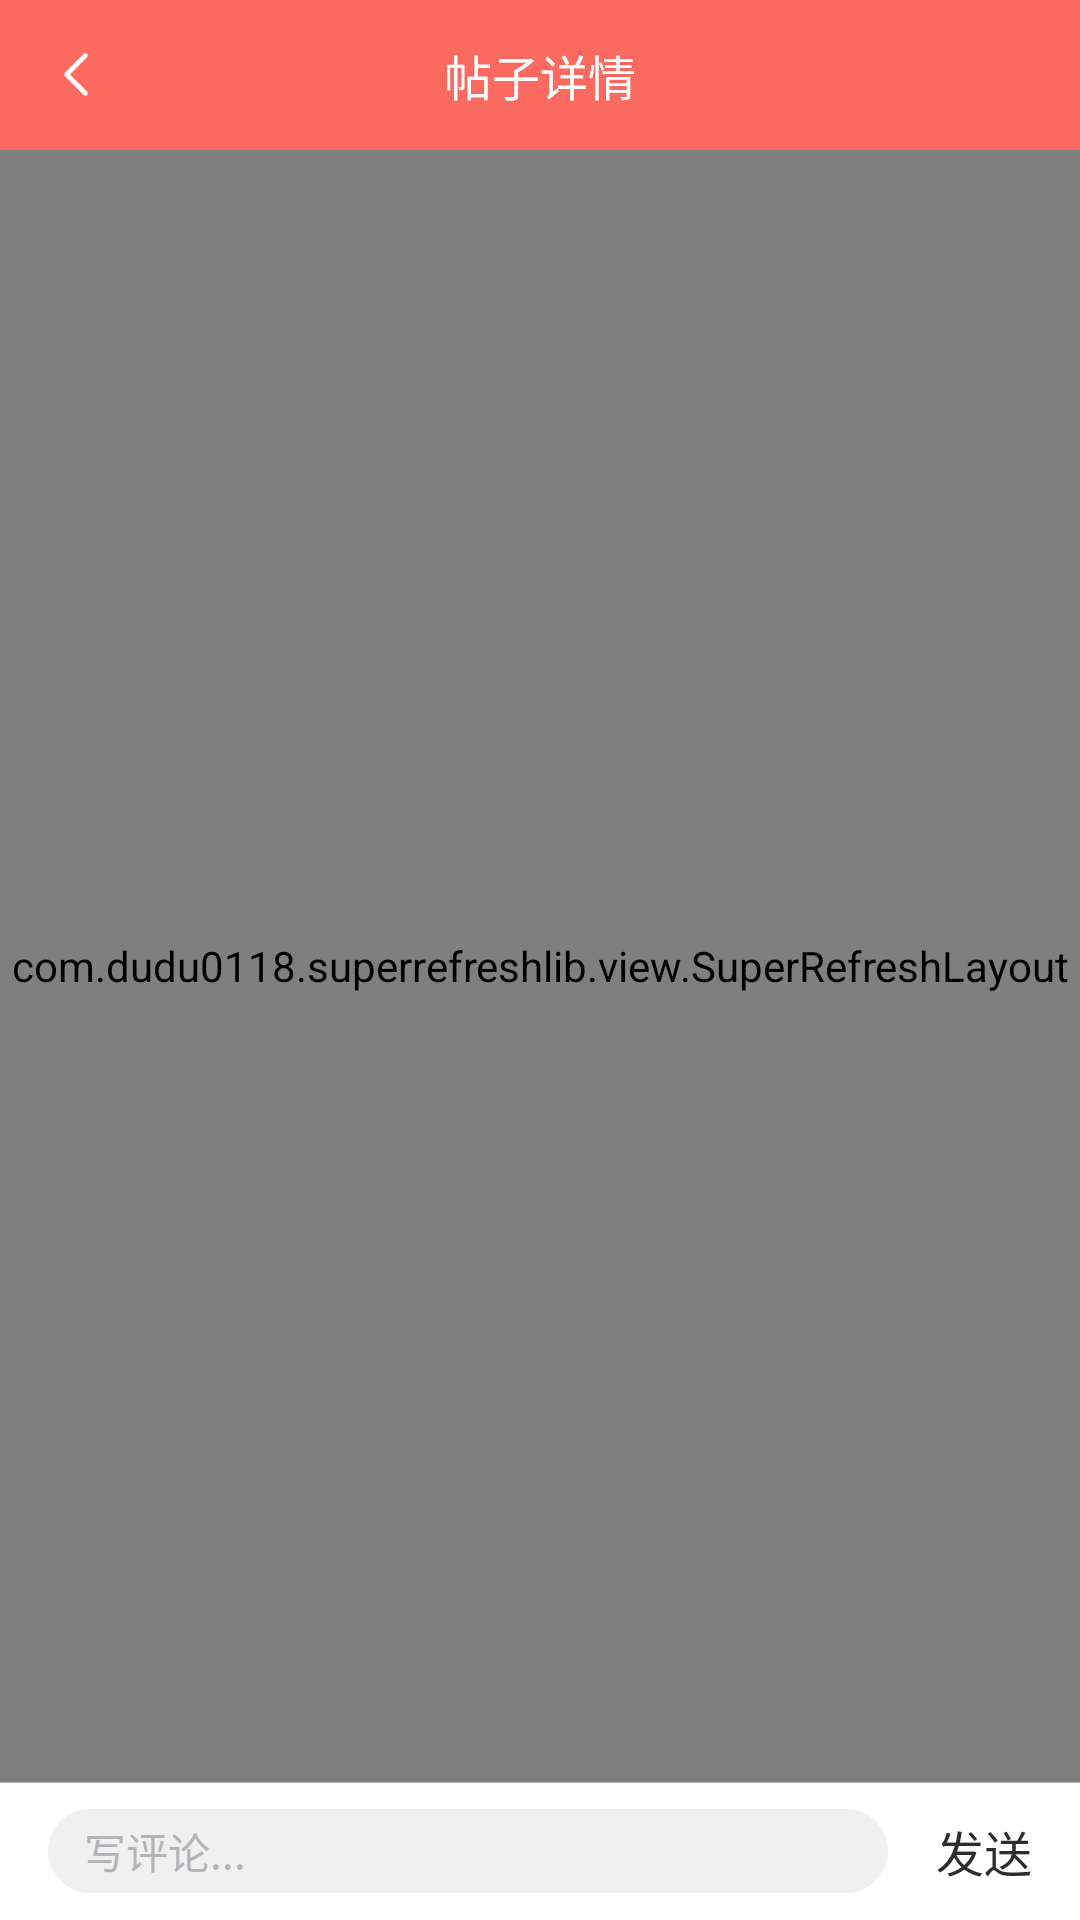

Screen size 1080 x 1920. Icon name, then its box in pixels as {"x1": x1, "y1": y1, "x2": x2, "y2": y2}:
back: {"x1": 64, "y1": 53, "x2": 88, "y2": 96}
